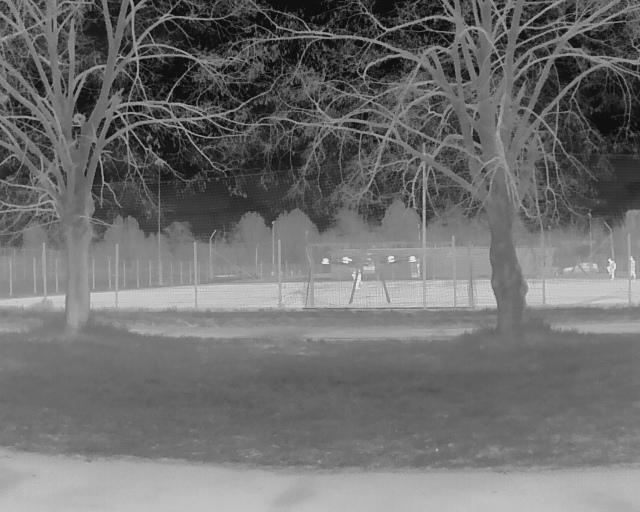drone: (310, 239, 422, 317)
